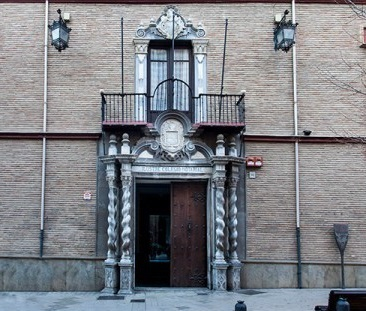columna-salomonica: (211, 179, 229, 265), (118, 178, 134, 261), (104, 180, 120, 262), (226, 180, 241, 263)
fronton-partido: (129, 139, 214, 167)
vano-adintelado: (130, 161, 211, 291), (142, 34, 198, 122)
